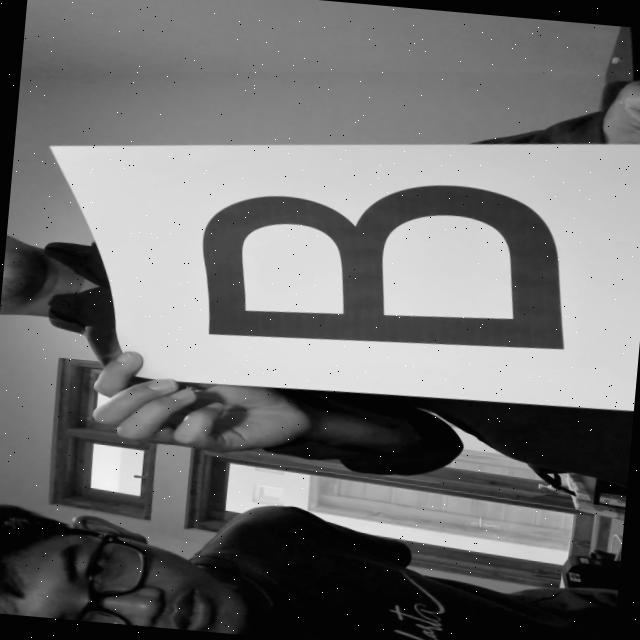b: (160, 144, 597, 392)
